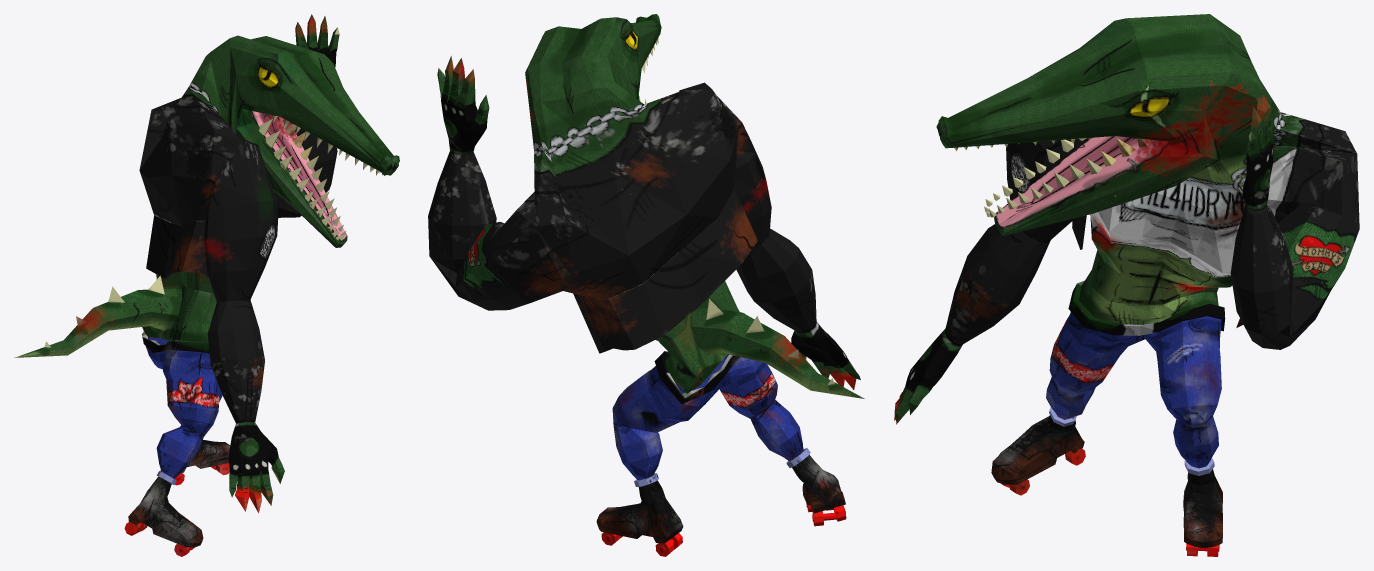
The model's file is cocodrilaBonesSelect_000009.obj.
3 views of the same model, side by side, from view 1: azimuth 30°, elevation 25°; view 2: azimuth 150°, elevation 25°; view 3: azimuth 270°, elevation 25° (orthographic). The views are drawn at different scales.
Parts seen in each view (by area): view 1: Crocodile.002_Cylinder.002; view 2: Crocodile.002_Cylinder.002; view 3: Crocodile.002_Cylinder.002.
Boxes of the visible parts, <box> form: Crocodile.002_Cylinder.002: <box>14,14,399,556</box>; Crocodile.002_Cylinder.002: <box>428,14,864,556</box>; Crocodile.002_Cylinder.002: <box>894,14,1359,556</box>.
Bounding box in the file's own units: 5.18 × 6.11 × 4.62.
